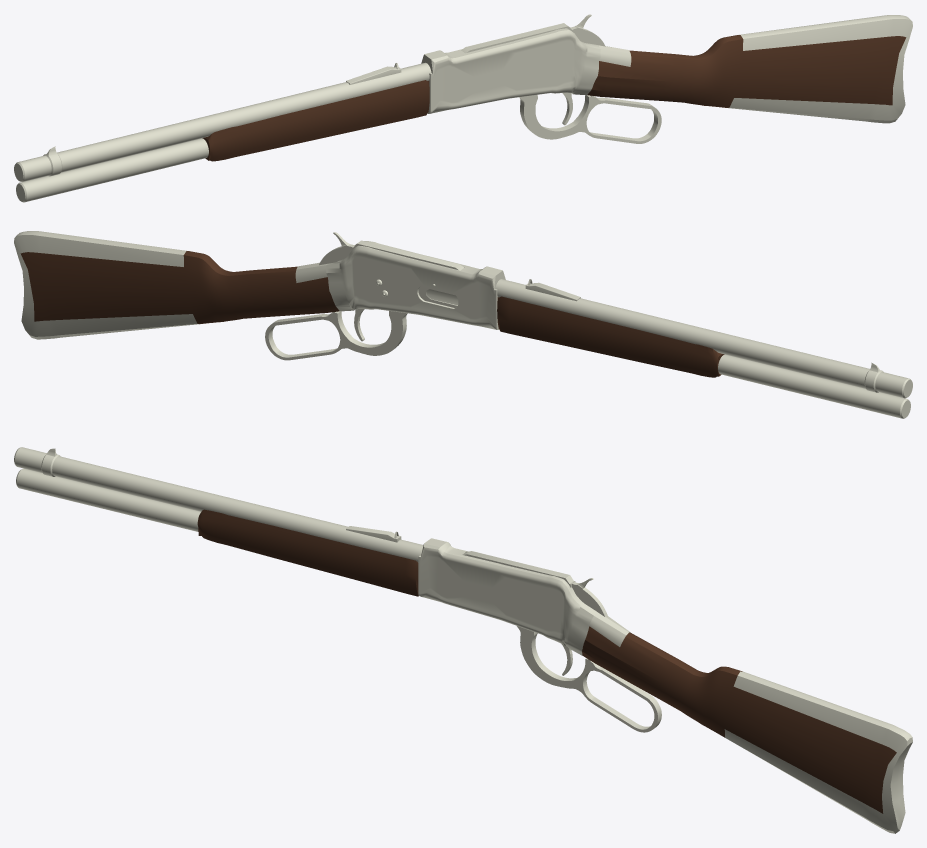
Rendered from Winchester.fbx.
The picture shows the model from 3 angles, top to bottom: view 1: azimuth 30°, elevation 25°; view 2: azimuth 150°, elevation 25°; view 3: azimuth 330°, elevation 25°; orthographic projection.
Visible parts, largest first — view 1: priklad, dulo, centr, dulo2, Cube 004, Cube.001, Cube.002, Cube; view 2: priklad, dulo, centr, dulo2, Cube 004, Cube.001, Cube, Cube.002; view 3: priklad, dulo, centr, dulo2, Cube 004.
Boxes of the visible parts, box(x1,y1,x2,y2) form: priklad: box(587, 15, 912, 123); dulo: box(14, 62, 431, 202); centr: box(421, 28, 631, 113); dulo2: box(202, 80, 429, 161); Cube 004: box(519, 95, 661, 143); Cube.001: box(461, 23, 573, 53); Cube.002: box(346, 63, 401, 84); Cube: box(570, 14, 605, 46); priklad: box(14, 231, 339, 339); dulo: box(495, 279, 912, 418); centr: box(295, 241, 505, 329); dulo2: box(497, 296, 724, 377); Cube 004: box(265, 311, 407, 360); Cube.001: box(351, 240, 463, 270); Cube: box(319, 232, 354, 265); Cube.002: box(525, 279, 580, 301); priklad: box(582, 626, 912, 833); dulo: box(14, 447, 423, 562); centr: box(418, 538, 630, 655); dulo2: box(197, 509, 418, 596); Cube 004: box(517, 626, 661, 732).
Size of the model in its own units: 473 by 91.57 by 11.57.
